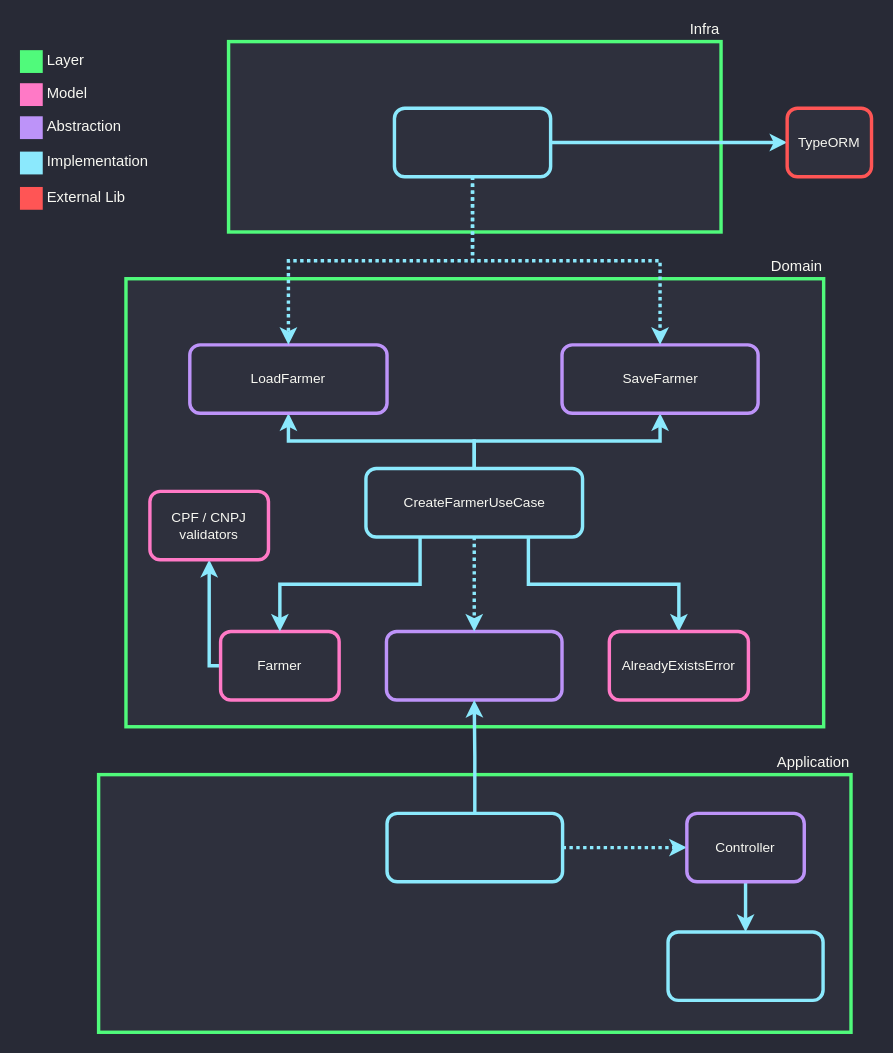
Some shapes in this 893 by 1053 pixel diagram are drawn without their labels. Here are the shapes that lost their labels. From the top down, the centre of each, then its label:
At point 472,142: "FarmerRepo".
At point 473,665: "UseCase".
At point 474,847: "CreateFarmerController".
At point 745,965: "Validation".
